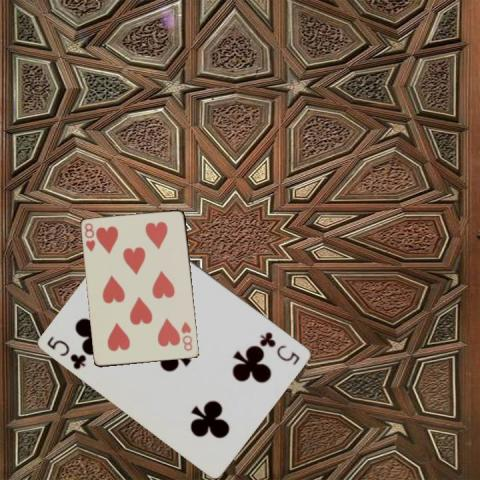5c: (44, 333, 88, 371), (257, 329, 302, 366)
8h: (179, 318, 194, 352), (82, 220, 97, 253)
